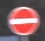No entry: (6, 5, 40, 36)
